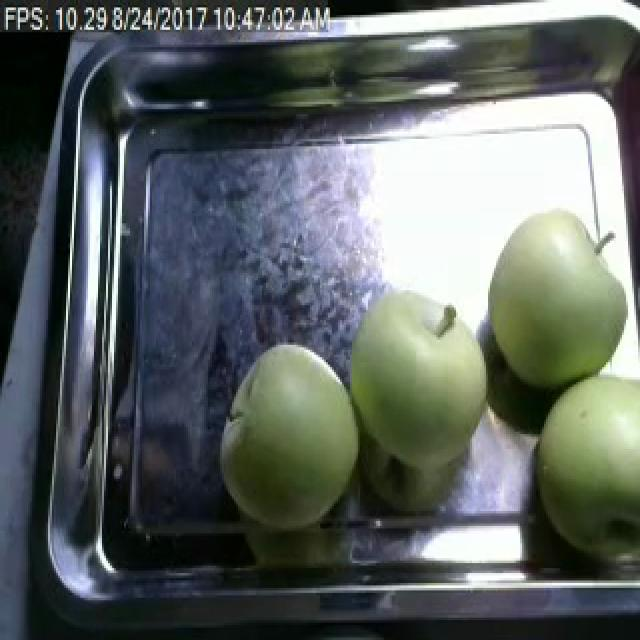50-_ripeness: (208, 328, 366, 526), (334, 279, 485, 474), (478, 205, 635, 385), (538, 367, 640, 571)
